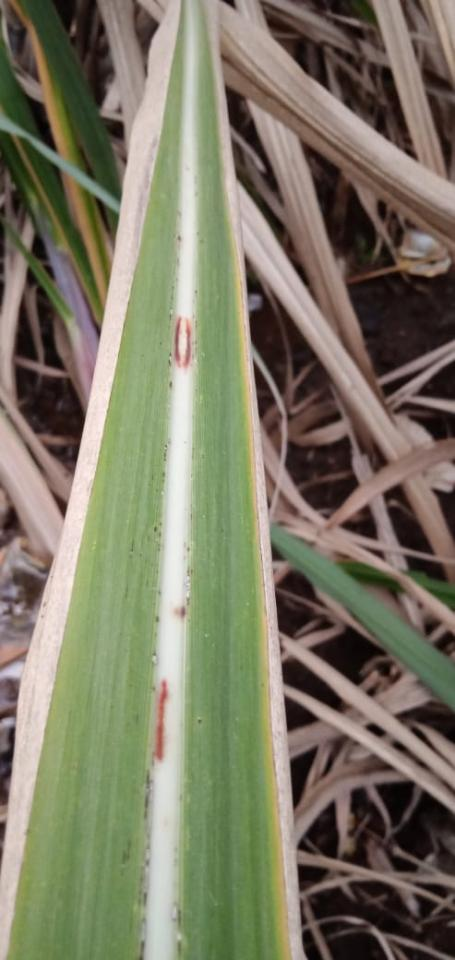RedRot: (155, 679, 169, 761), (174, 315, 191, 370)
Rust: (171, 899, 182, 959), (168, 256, 181, 304), (143, 767, 154, 822), (138, 914, 148, 959), (120, 836, 132, 866), (143, 832, 152, 867), (170, 604, 186, 621), (170, 233, 184, 251), (163, 436, 171, 462), (136, 889, 148, 906), (192, 314, 201, 333), (149, 650, 159, 667), (195, 230, 204, 245), (192, 339, 198, 360), (186, 563, 194, 578), (128, 537, 134, 553), (183, 540, 191, 552), (151, 750, 156, 768), (167, 352, 172, 367), (125, 582, 129, 599), (185, 594, 190, 607), (154, 614, 161, 623), (169, 306, 173, 321), (176, 210, 183, 218), (197, 717, 203, 726), (161, 471, 165, 484), (135, 712, 139, 725), (219, 526, 226, 533), (150, 685, 157, 692), (194, 176, 198, 187), (157, 520, 163, 527), (194, 190, 199, 198), (169, 379, 173, 389), (157, 542, 161, 552), (185, 166, 191, 172), (151, 472, 155, 481), (146, 533, 150, 542), (189, 473, 194, 480), (153, 525, 158, 532), (192, 443, 194, 459), (158, 531, 162, 539), (109, 704, 114, 710), (158, 589, 162, 596), (194, 289, 199, 294), (158, 341, 163, 346), (154, 488, 159, 493), (184, 440, 188, 445), (129, 554, 133, 559), (201, 453, 204, 459), (139, 553, 143, 557)
Yellow: (0, 0, 181, 959), (200, 0, 308, 959)
